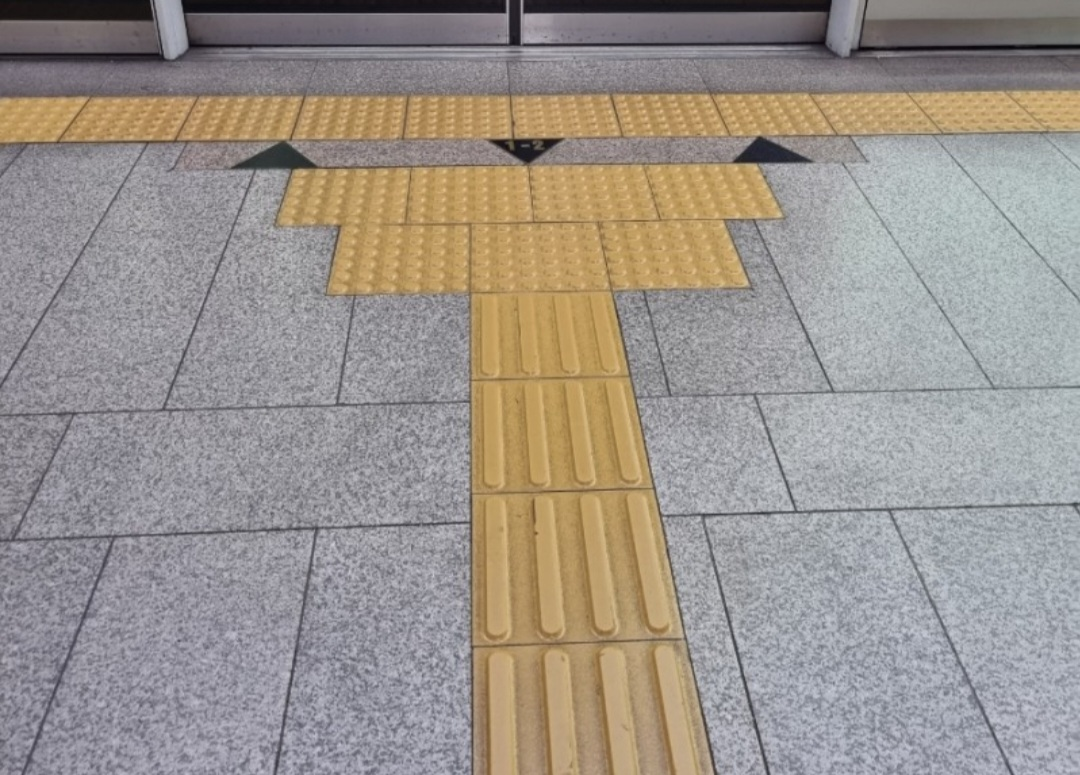guideBlock: (480, 493, 707, 663), (461, 654, 733, 775), (464, 376, 638, 487), (473, 290, 627, 383)
warningBlock: (590, 223, 750, 299), (466, 220, 623, 292), (339, 222, 485, 292), (648, 164, 785, 223), (75, 79, 191, 143), (529, 170, 659, 225), (288, 174, 414, 230), (410, 168, 530, 221), (923, 85, 1029, 143), (822, 88, 932, 143), (190, 98, 303, 148), (407, 95, 522, 144), (615, 92, 724, 138), (300, 94, 404, 142), (13, 83, 83, 150), (716, 95, 829, 135), (509, 99, 615, 140), (1027, 77, 1080, 140)
